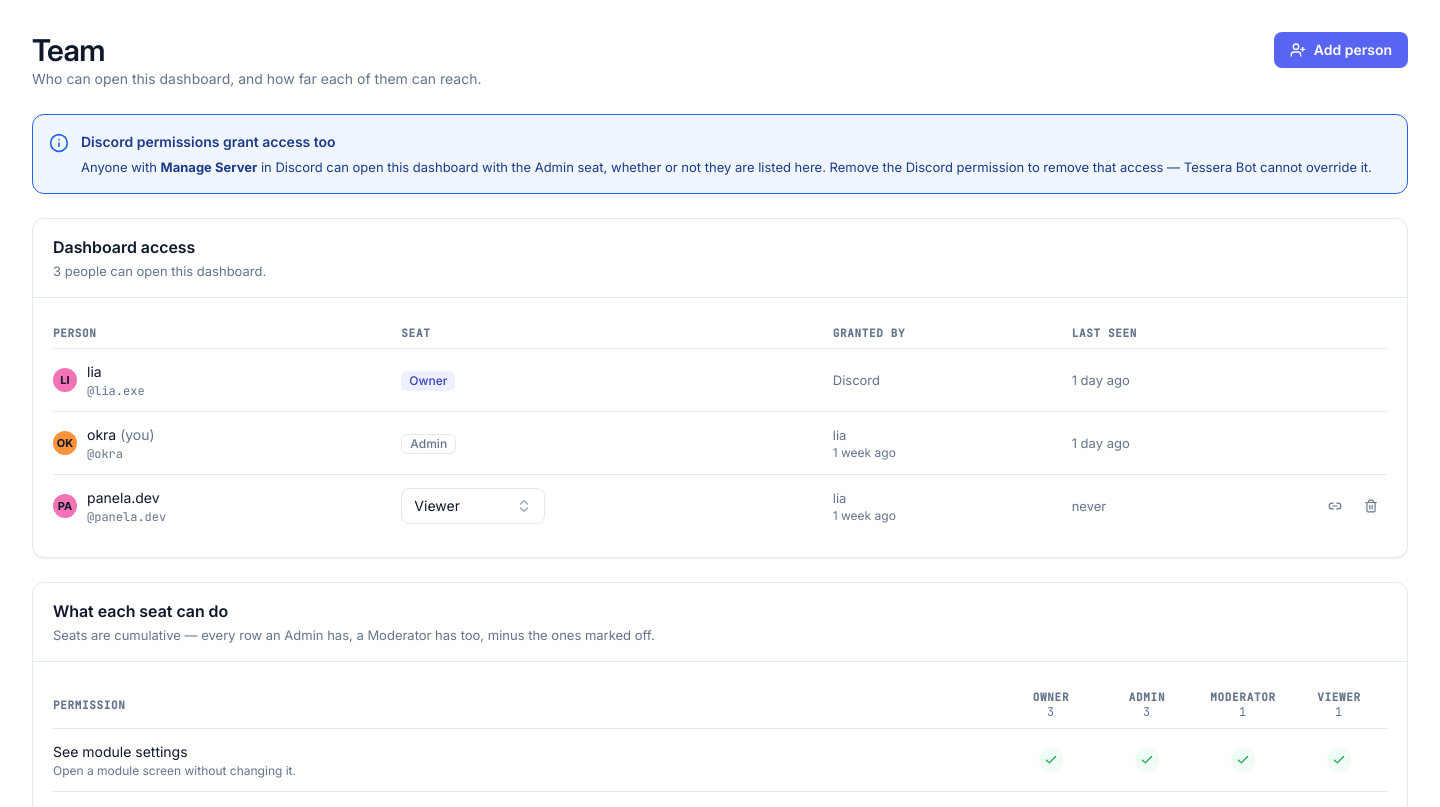
Test: TeamScreen adds someone by id › asks for the id, because the seat needs to name a person
The image size is (1440, 807).
Click the button "Add person" at [1341, 50], box left=1274, top=32, right=1408, bottom=68
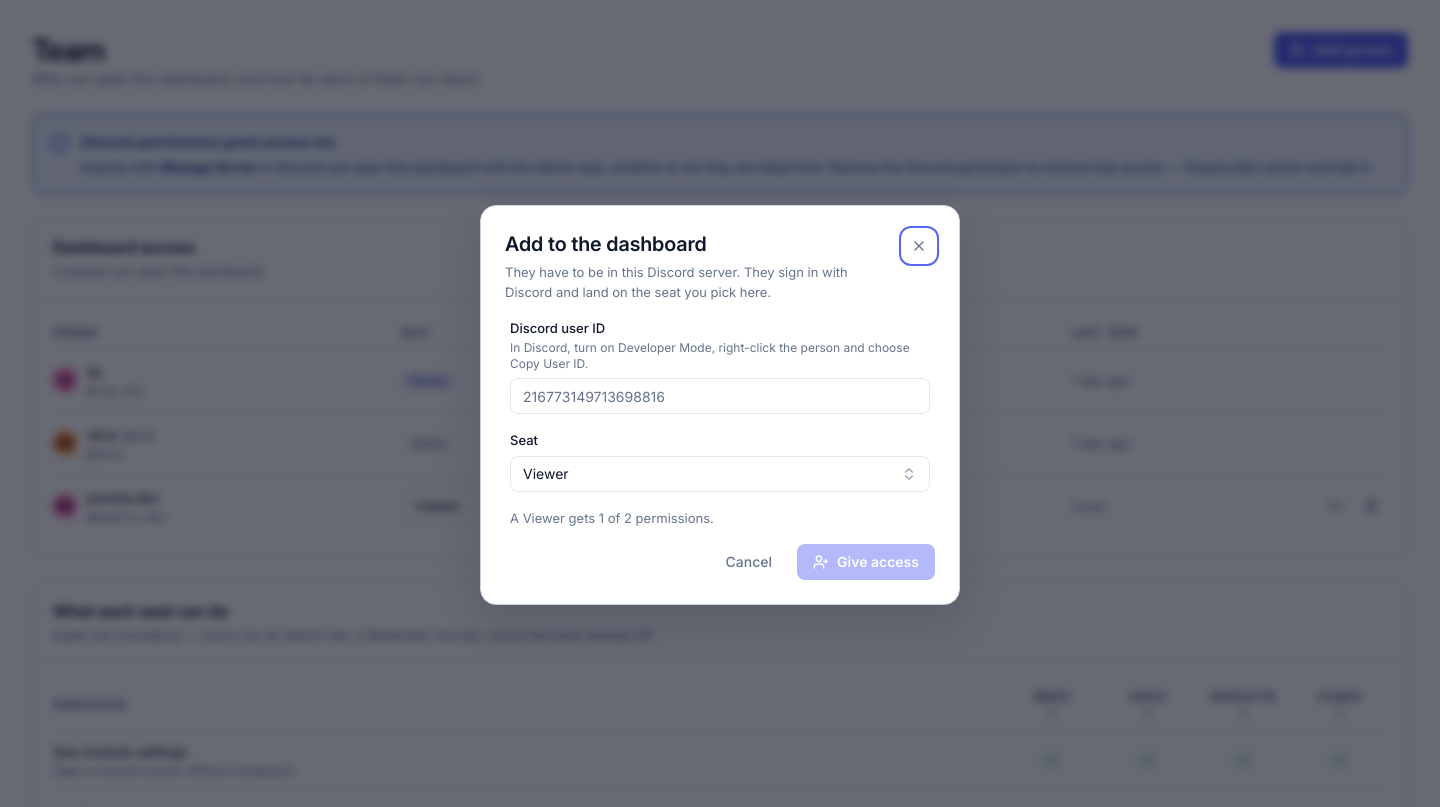
Check: the field is shown, box left=510, top=378, right=930, bottom=414
